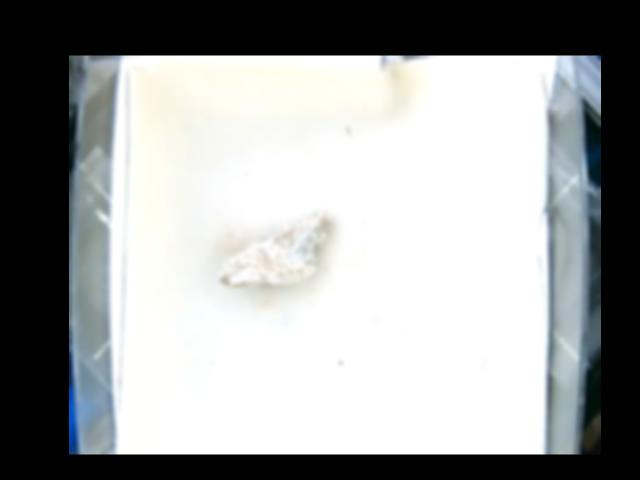Brisk: (214, 210, 330, 291)
